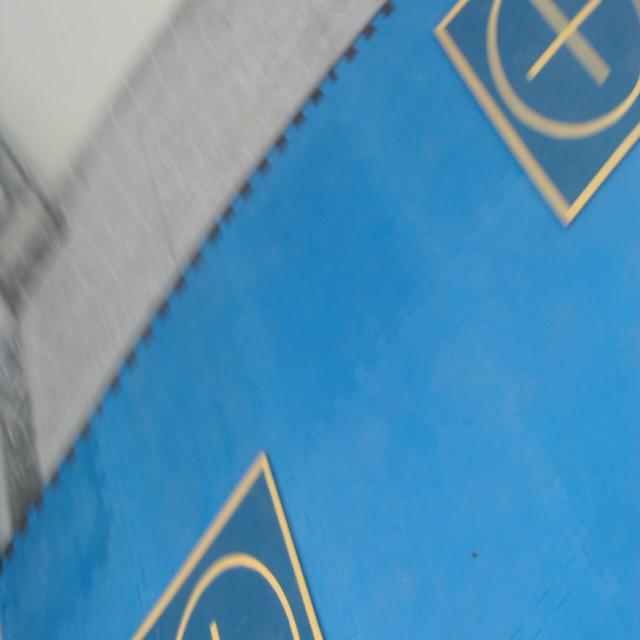base_pouso: (433, 0, 640, 234), (129, 450, 325, 639)
